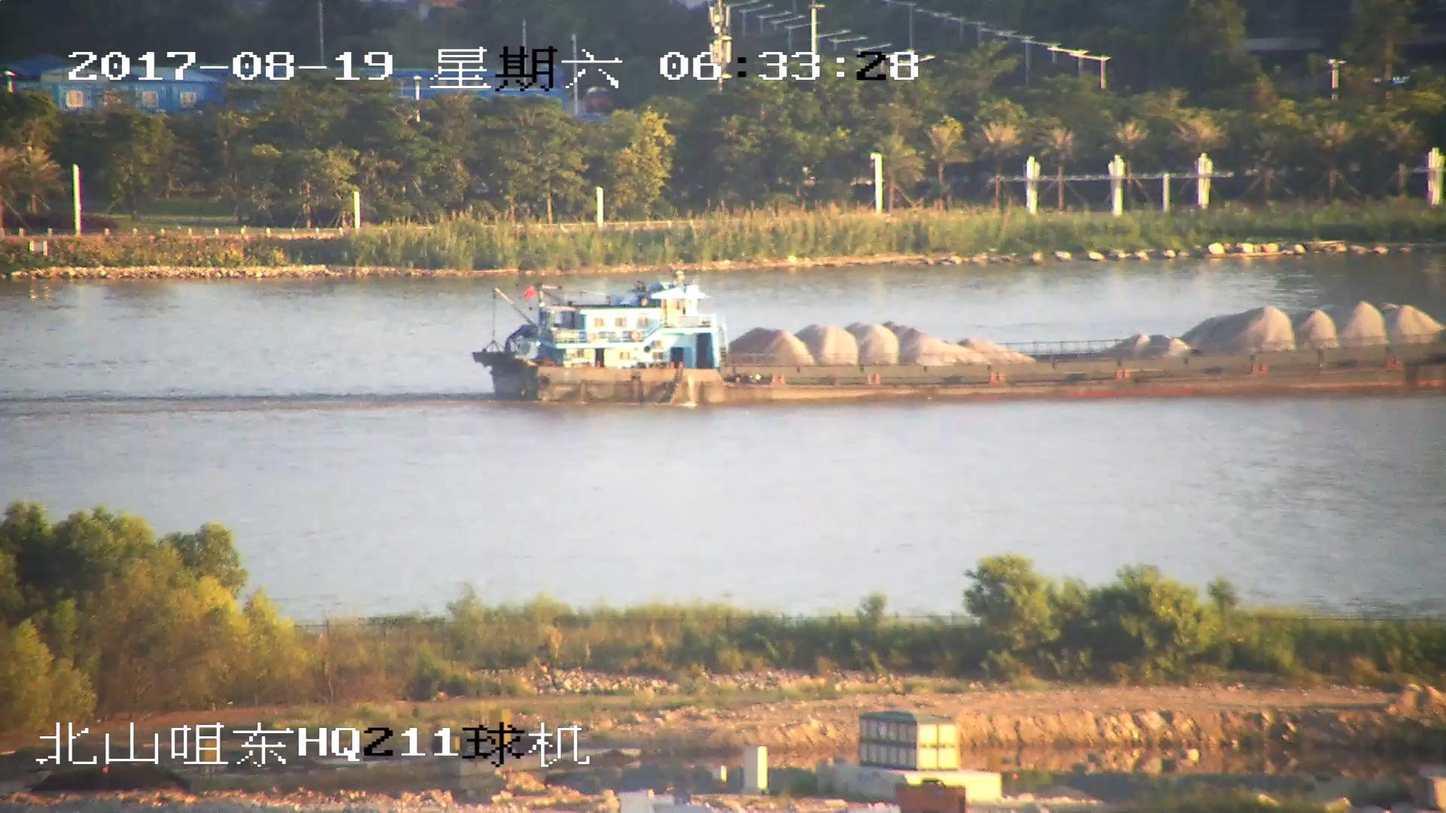ore carrier: (469, 270, 1445, 408)
